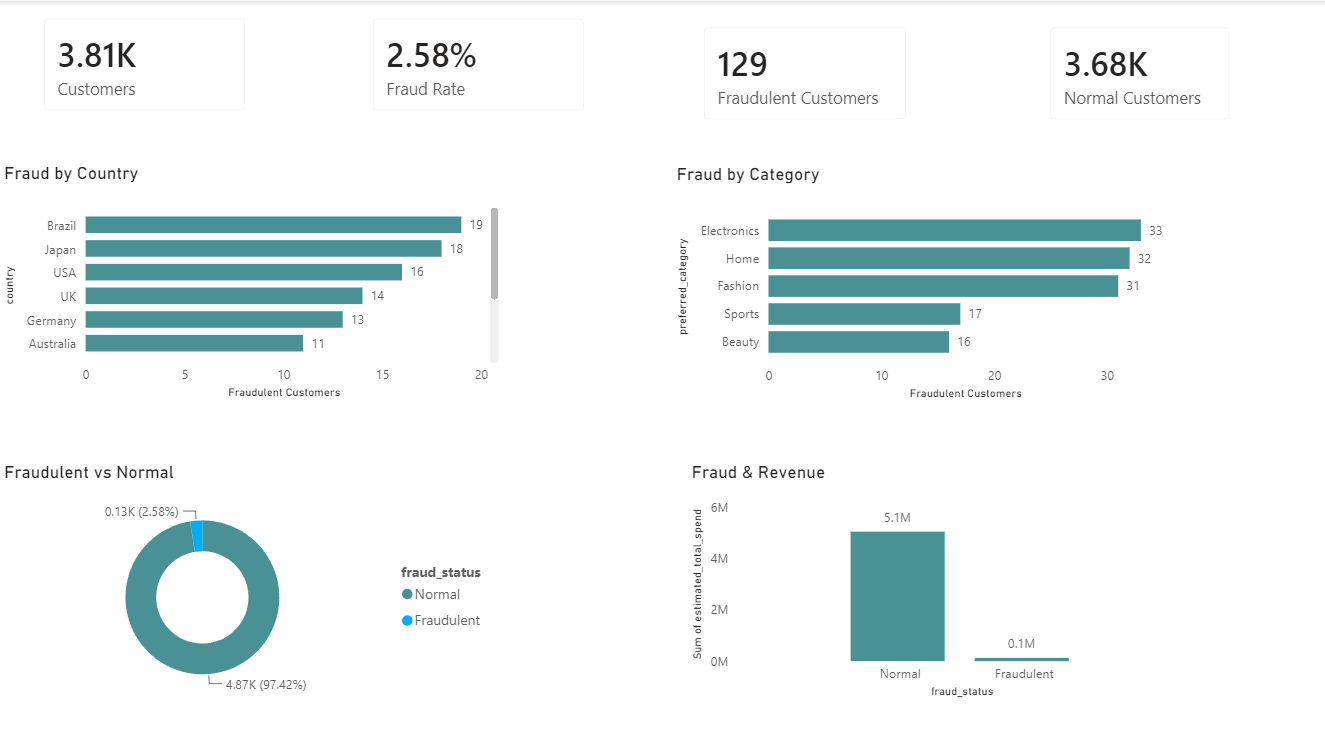

The dashboard page shown, as its layout file describes it:
{"tool":"powerbi","page":{"name":"Fraud Analysis","canvas":[1280,720],"ordinal":3},"visuals":[{"type":"cardVisual","fields":{"Data":["vw_powerbi_customer.Total Customers"]},"box":[26.5,0,228,123.1],"z":0},{"type":"cardVisual","fields":{"Data":["vw_powerbi_customer.Fraudulent Customers"]},"box":[663.5,8.4,229.2,123.1],"z":1},{"type":"cardVisual","fields":{"Data":["vw_powerbi_customer.Fraud Rate"]},"box":[343.8,0,238.9,123.1],"z":3},{"type":"cardVisual","fields":{"Data":["vw_powerbi_customer.Normal Customers"]},"box":[997.7,8.4,207.5,123.1],"z":4},{"type":"clusteredBarChart","title":"Fraud by Country","fields":{"Category":["vw_powerbi_customer.country"],"Y":["vw_powerbi_customer.Fraudulent Customers"]},"box":[0,155.6,487.4,232.8],"z":5},{"type":"clusteredBarChart","title":"Fraud by Category","fields":{"Category":["vw_powerbi_customer.preferred_category"],"Y":["vw_powerbi_customer.Fraudulent Customers"]},"box":[649.1,156.8,487,233],"z":6},{"type":"donutChart","title":"Fraudulent vs Normal","fields":{"Category":["vw_powerbi_customer.fraud_status"],"Y":["CountNonNull(vw_powerbi_customer.customer_id)"]},"box":[0,444,487,233],"z":7},{"type":"clusteredColumnChart","title":"Fraud & Revenue","fields":{"Category":["vw_powerbi_customer.fraud_status"],"Y":["Sum(vw_powerbi_customer.estimated_total_spend)"]},"box":[663.5,444,487,233],"z":8}]}

Visuals, with their boxes in screenshot pixels (x1, y1, x2, y2), scaled from the page's 1280x720 canvas onto the 1325x745 screenshot:
cardVisual - vw_powerbi_customer.Total Customers: rect(27, 0, 263, 127)
cardVisual - vw_powerbi_customer.Fraudulent Customers: rect(687, 9, 924, 136)
cardVisual - vw_powerbi_customer.Fraud Rate: rect(356, 0, 603, 127)
cardVisual - vw_powerbi_customer.Normal Customers: rect(1033, 9, 1248, 136)
"Fraud by Country" clusteredBarChart: rect(0, 161, 505, 402)
"Fraud by Category" clusteredBarChart: rect(672, 162, 1176, 403)
"Fraudulent vs Normal" donutChart: rect(0, 459, 504, 701)
"Fraud & Revenue" clusteredColumnChart: rect(687, 459, 1191, 701)
